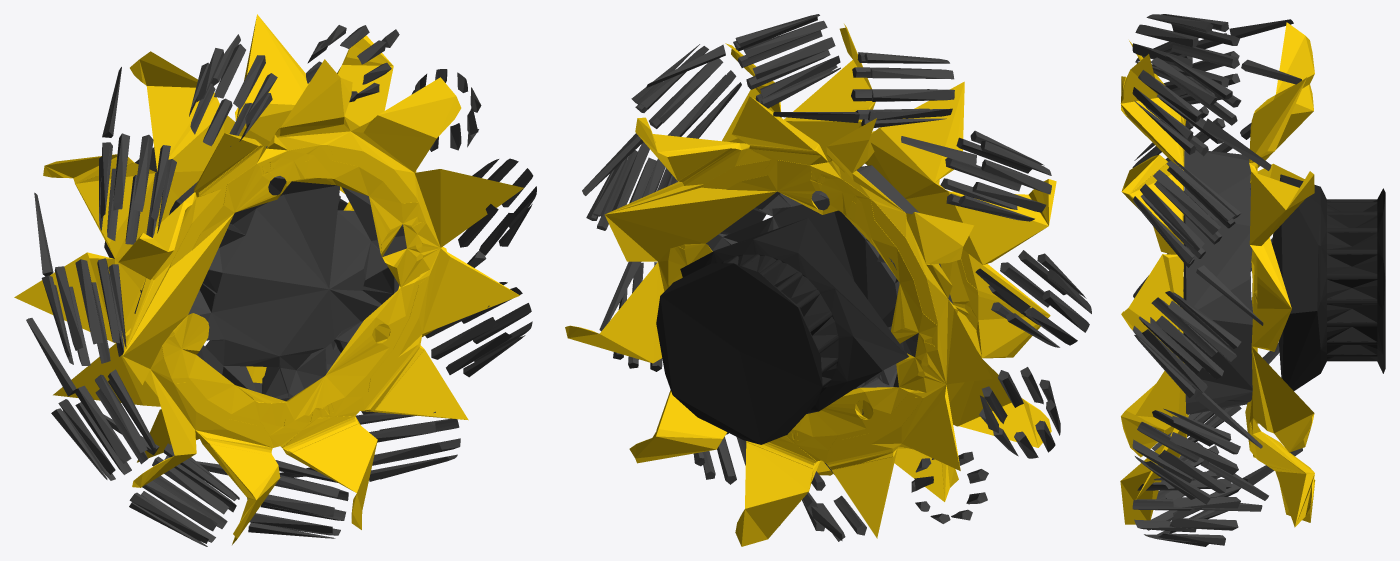
The model's file is wheelFL.glb.
3 views of the same model, side by side, from view 1: azimuth 30°, elevation 25°; view 2: azimuth 150°, elevation 25°; view 3: azimuth 270°, elevation 25° (orthographic). The views are drawn at different scales.
Parts seen in each view (by area): view 1: wheelFL_2, wheelFL_1; view 2: wheelFL_2, wheelFL_1, wheelFL_0; view 3: wheelFL_1, wheelFL_2, wheelFL_0.
Boxes of the visible parts, <box> form: wheelFL_2: <box>14,14,523,544</box>; wheelFL_1: <box>26,25,536,546</box>; wheelFL_2: <box>565,24,1056,546</box>; wheelFL_1: <box>582,14,1091,541</box>; wheelFL_0: <box>656,218,908,444</box>; wheelFL_1: <box>1132,14,1302,546</box>; wheelFL_2: <box>1120,22,1315,527</box>; wheelFL_0: <box>1272,174,1385,390</box>.
Size of the model in its own units: 3.97 by 3.95 by 1.98.
